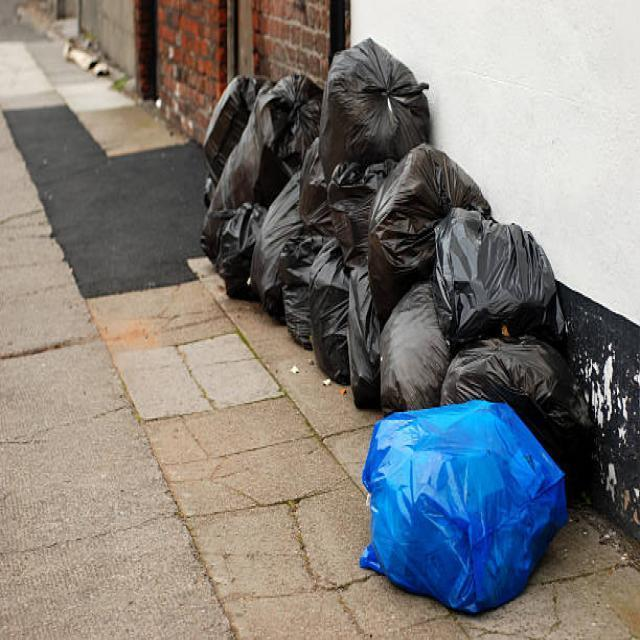Trashbag: (451, 329, 589, 442), (441, 214, 558, 339), (324, 44, 432, 166), (368, 151, 458, 294), (376, 286, 454, 418), (246, 76, 325, 186), (252, 175, 299, 315), (348, 258, 382, 412), (314, 241, 351, 378), (283, 228, 326, 342), (203, 64, 250, 166), (332, 157, 372, 254), (224, 203, 263, 292), (302, 142, 334, 228)
